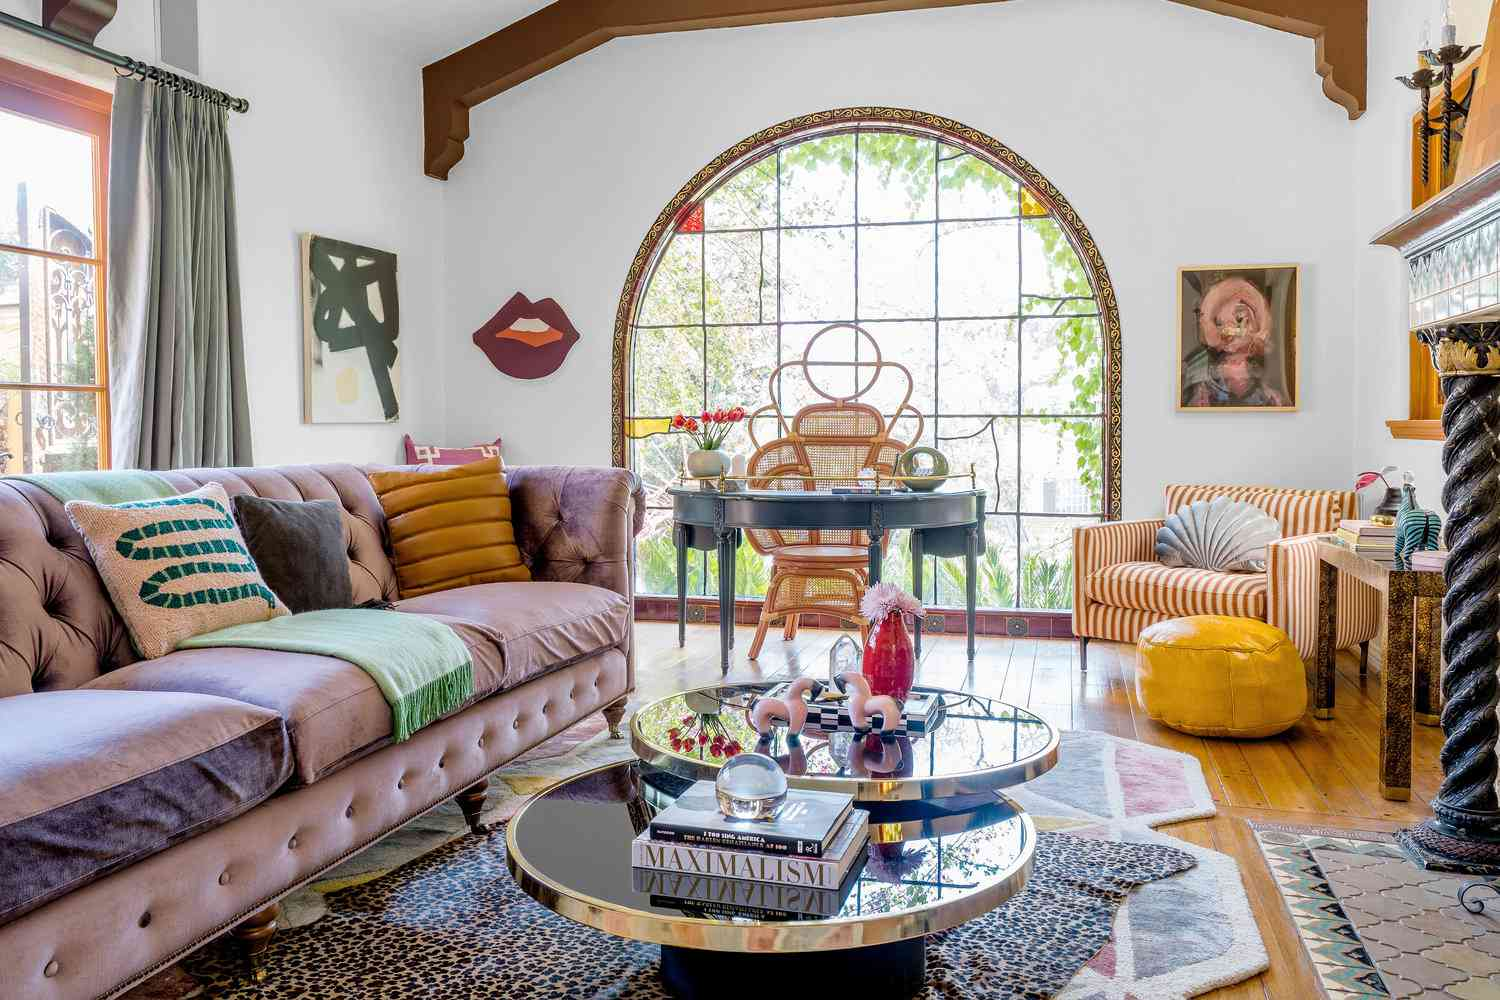hitam: (669, 487, 988, 530), (243, 496, 356, 602)
kuning: (1131, 621, 1307, 740)
merah: (871, 619, 917, 699)
putih: (687, 448, 732, 479)
